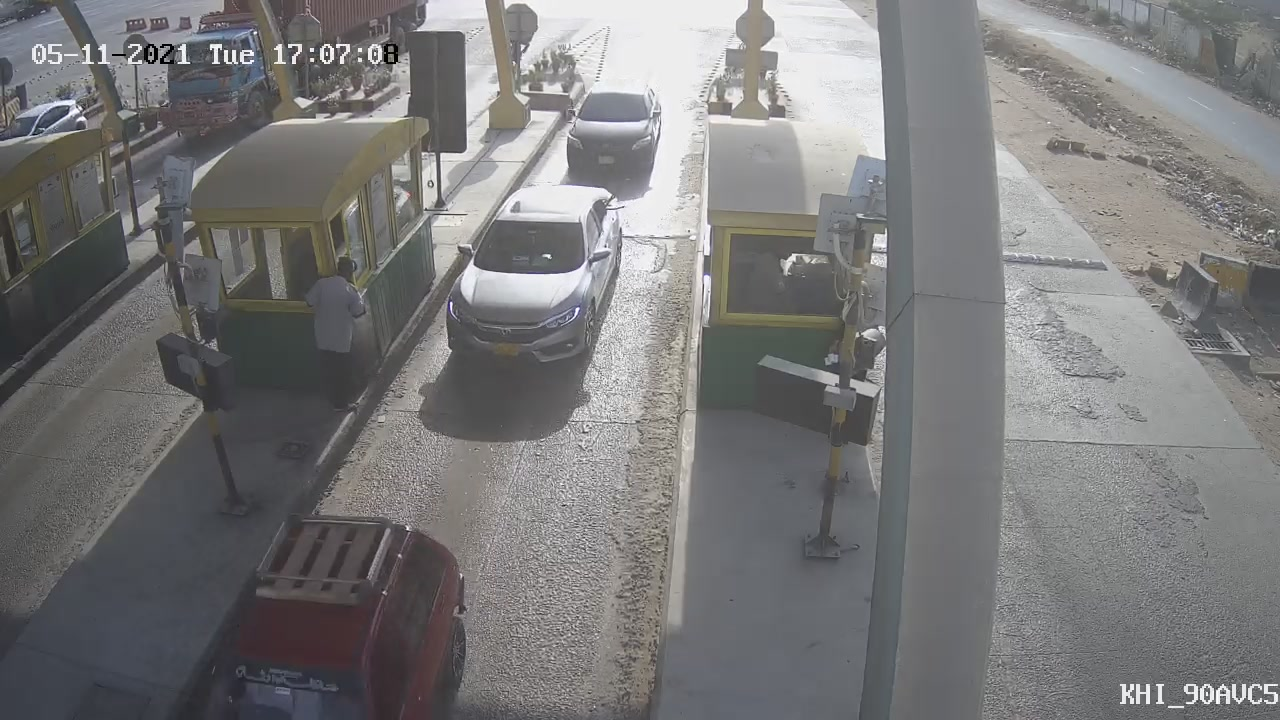F1: (422, 162, 643, 392), (546, 66, 678, 187)
